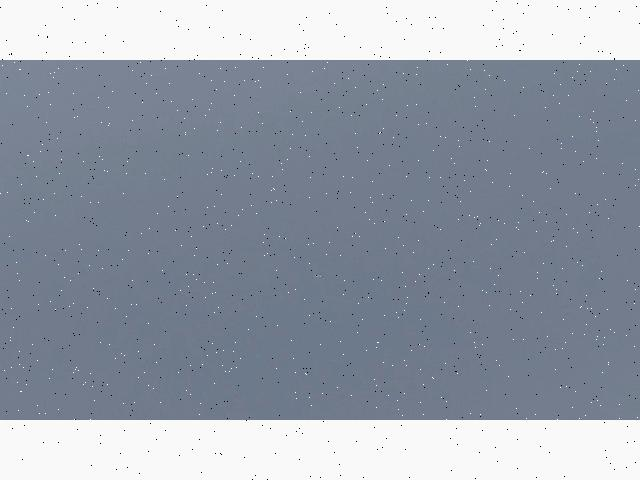Anti-Drone: (312, 271, 326, 281)
